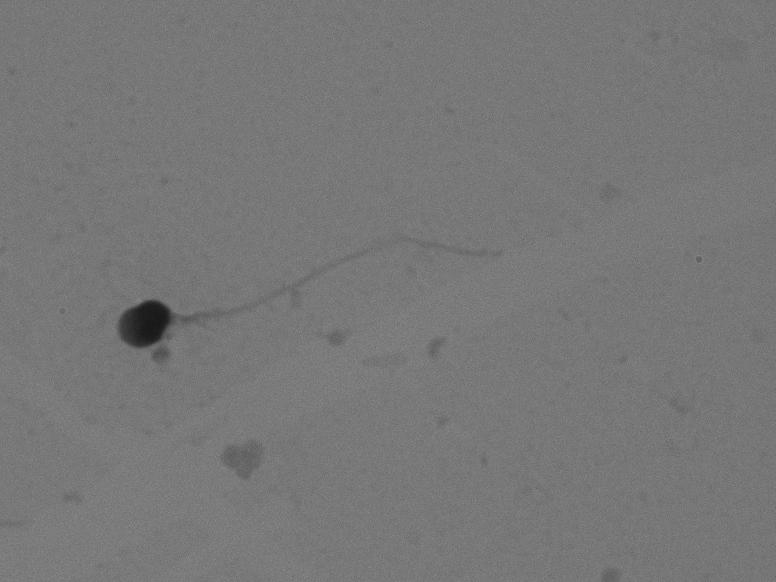Abnormal: (91, 211, 516, 368)
